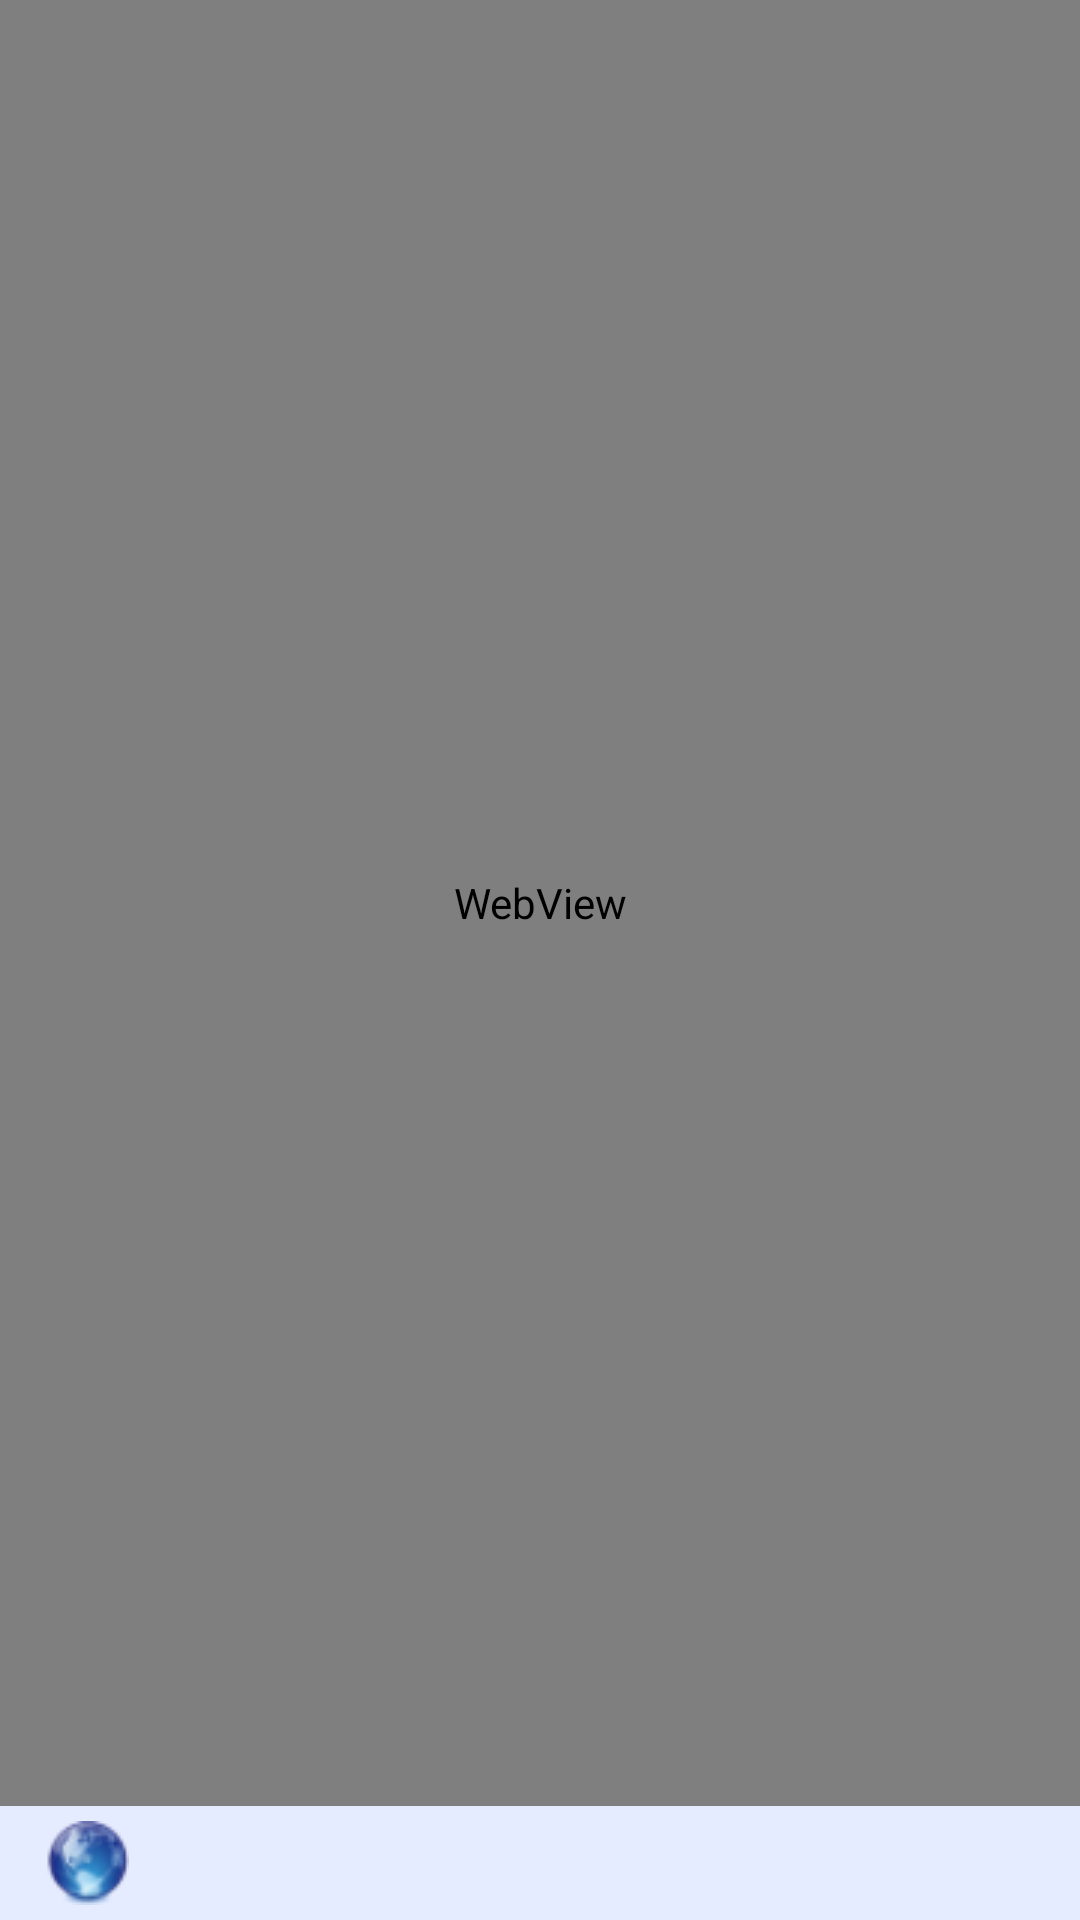

Icon bounding boxes for this 1080w x 1920h phone screenshot, format [x1, y1, x2, y2]:
browse: [47, 1821, 129, 1905]
